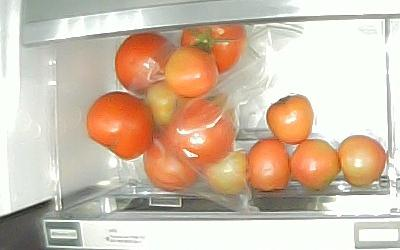tomato: (86, 91, 153, 160), (246, 137, 292, 193), (290, 139, 341, 189), (338, 135, 386, 187), (266, 94, 314, 144)
tomato_vinyl: (170, 98, 234, 166), (115, 32, 176, 95), (144, 127, 204, 191), (181, 21, 247, 74), (164, 47, 217, 97), (205, 151, 250, 194), (146, 81, 176, 127)
